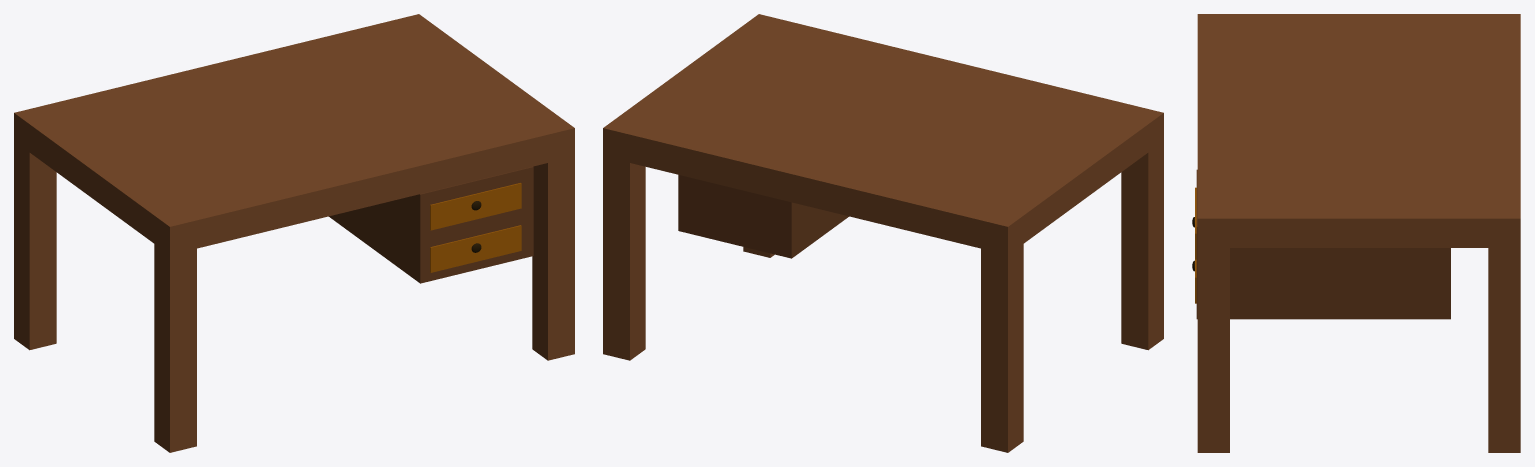
The model's file is bureau.fbx.
The picture shows the model from 3 angles, left to right: view 1: azimuth 30°, elevation 25°; view 2: azimuth 150°, elevation 25°; view 3: azimuth 270°, elevation 25°; orthographic projection. The views are drawn at different scales.
Parts seen in each view (by area): view 1: pSphere3; view 2: pSphere3; view 3: pSphere3.
Part boxes in pixels (x1,y1,x2,y2): pSphere3: (14,14,574,452); pSphere3: (603,14,1163,452); pSphere3: (1192,14,1520,452).
Size of the model in its own units: 1.5 by 0.8 by 1.02.
